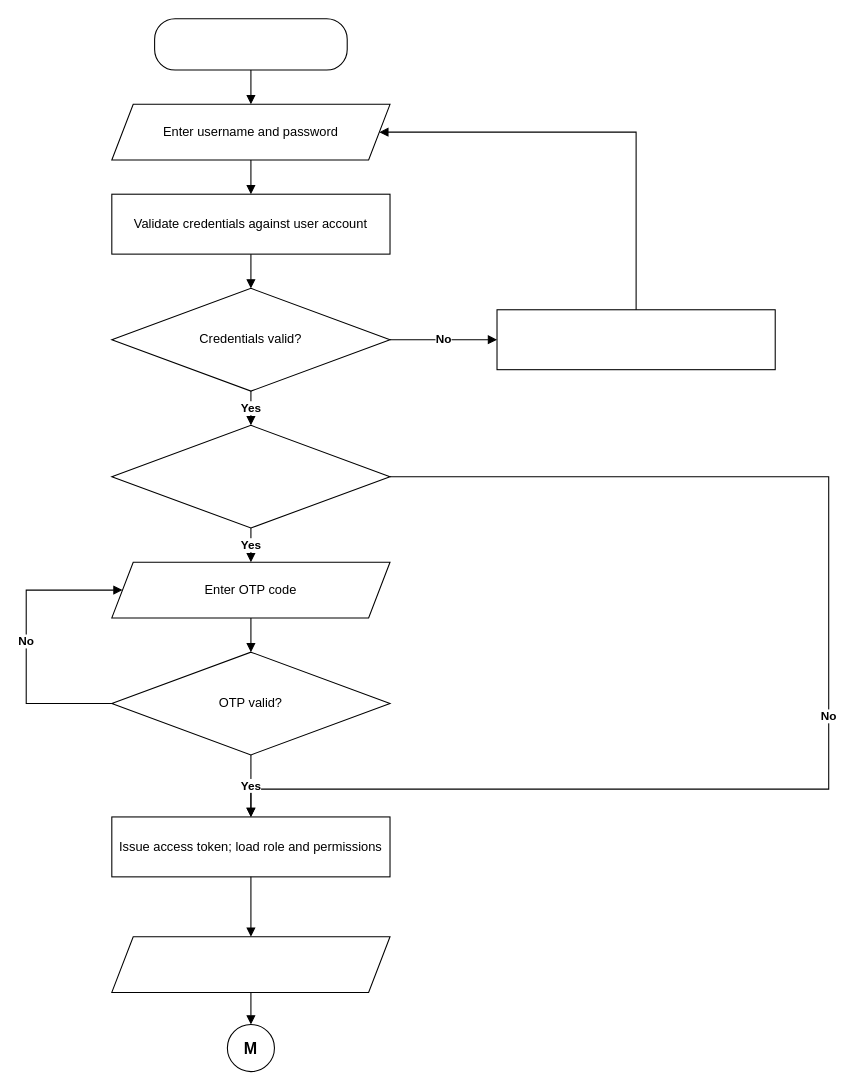
This 856x1090 diagram has some shape labels left out. Each missing label, with the centre of its shape:
"Display role-based dashboard" belongs at pixel 250 964.
"Log failed attempt; show CAPTCHA after 3 tries" belongs at pixel 635 339.
"START" belongs at pixel 250 44.
"Two-factor required?" belongs at pixel 250 476.
